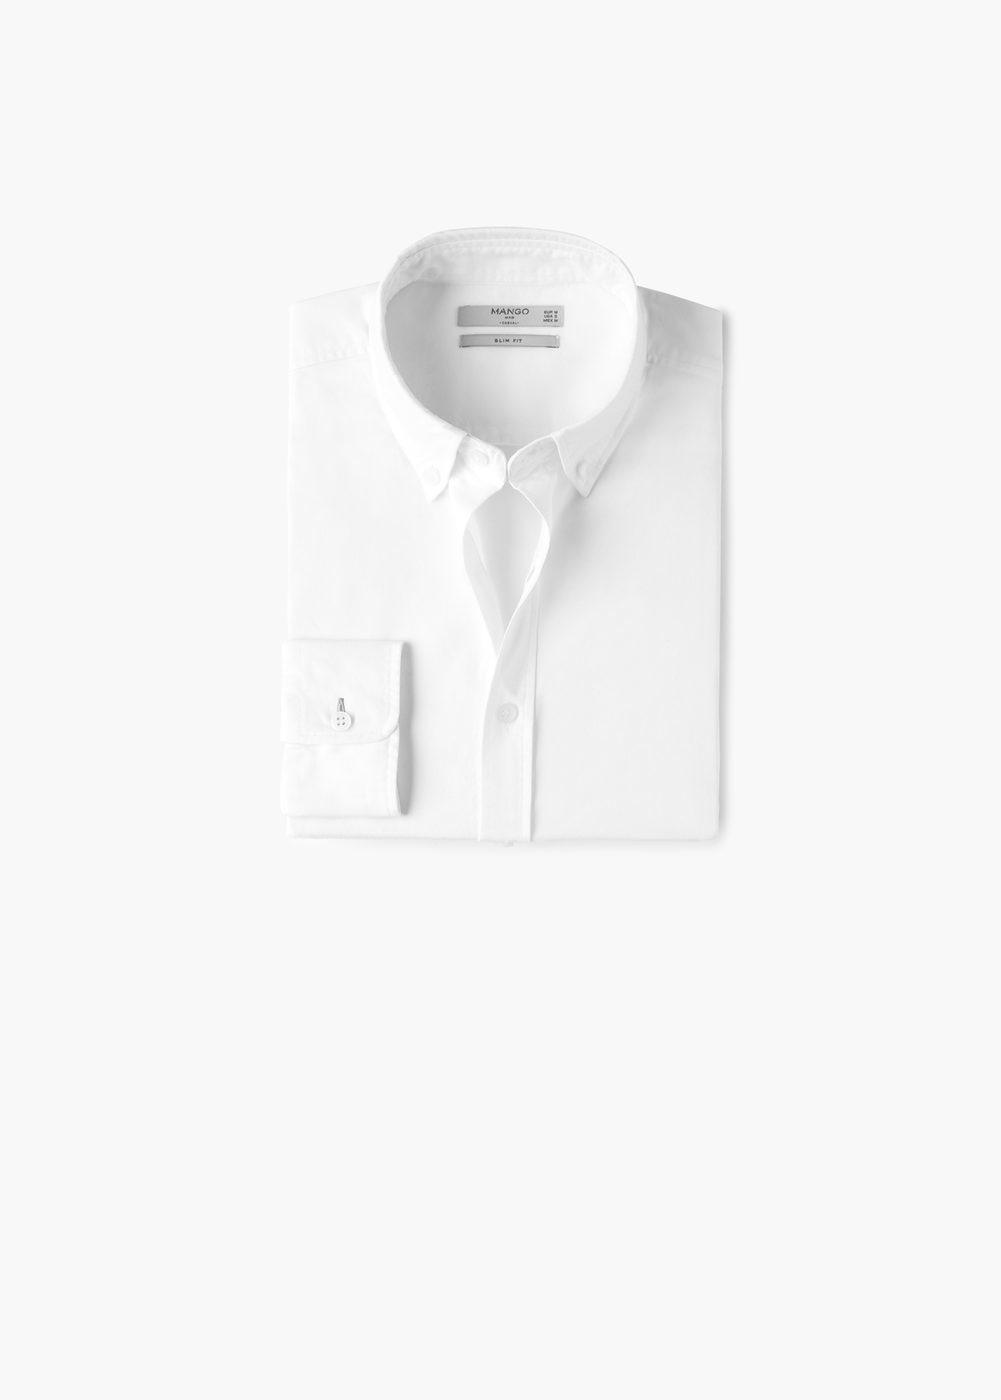teeshirt: (287, 221, 750, 874)
